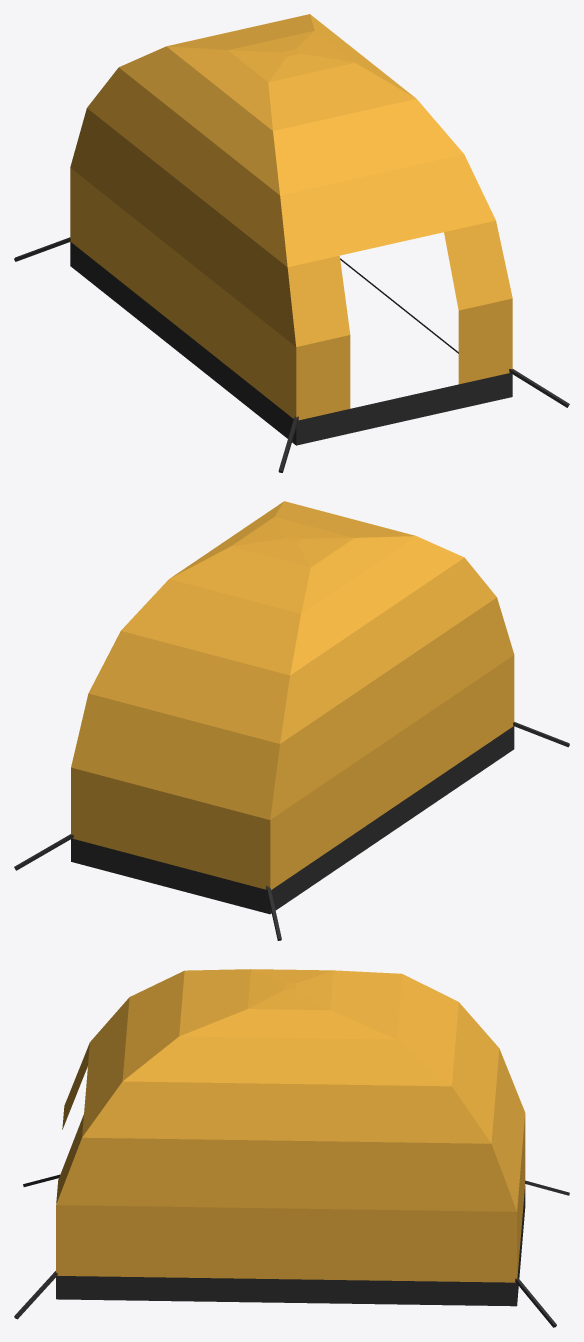
The model's file is Backpacking2.glb.
The picture shows the model from 3 angles, top to bottom: view 1: azimuth 30°, elevation 25°; view 2: azimuth 150°, elevation 25°; view 3: azimuth 270°, elevation 25°; orthographic projection. The views are drawn at different scales.
Visible parts, largest first — view 1: Box001; view 2: Box001; view 3: Box001.
Boxes of the visible parts, x1,y1,x2,y2 form: Box001: [70, 14, 512, 445]; Box001: [71, 501, 514, 914]; Box001: [56, 969, 525, 1306].
Size of the model in its own units: 1079547 by 955185 by 1780625.
